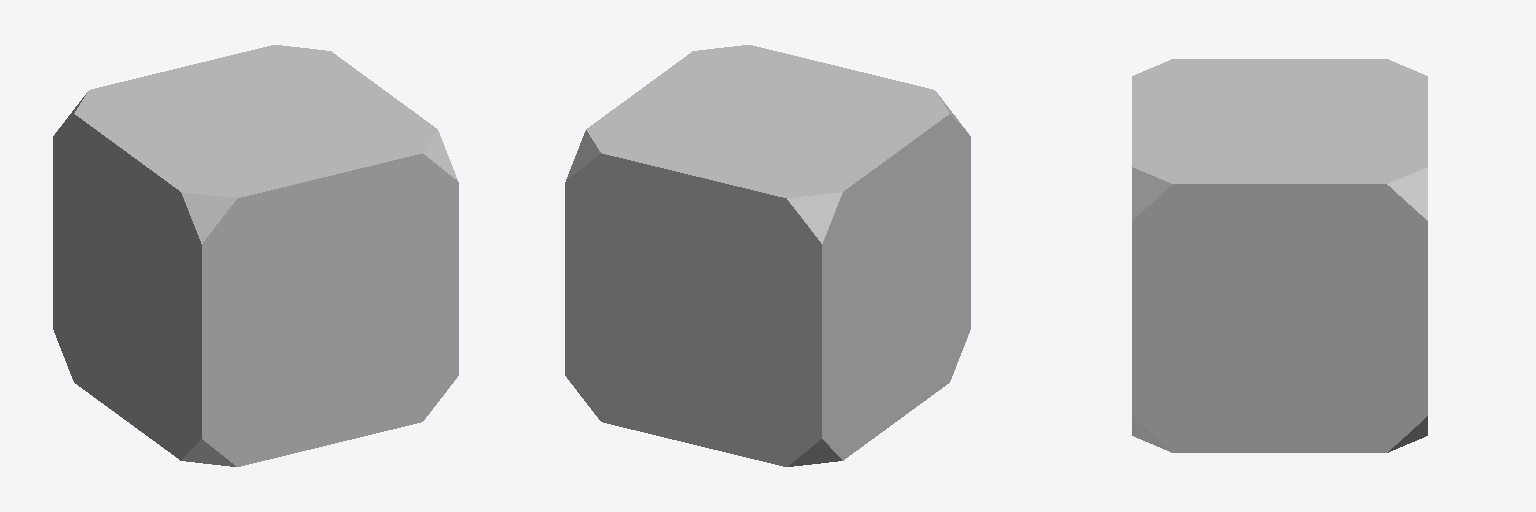
File: cubeofmeth.obj
The picture shows the model from 3 angles: view 1: azimuth 30°, elevation 25°; view 2: azimuth 150°, elevation 25°; view 3: azimuth 270°, elevation 25°; orthographic projection.
Visible parts, largest first — view 1: Cube_Cube.001; view 2: Cube_Cube.001; view 3: Cube_Cube.001.
Part boxes in pixels (x1,y1,x2,y2): Cube_Cube.001: (53,45,458,466); Cube_Cube.001: (565,45,970,466); Cube_Cube.001: (1132,59,1427,452).
Size of the model in its own units: 1 by 1 by 1.